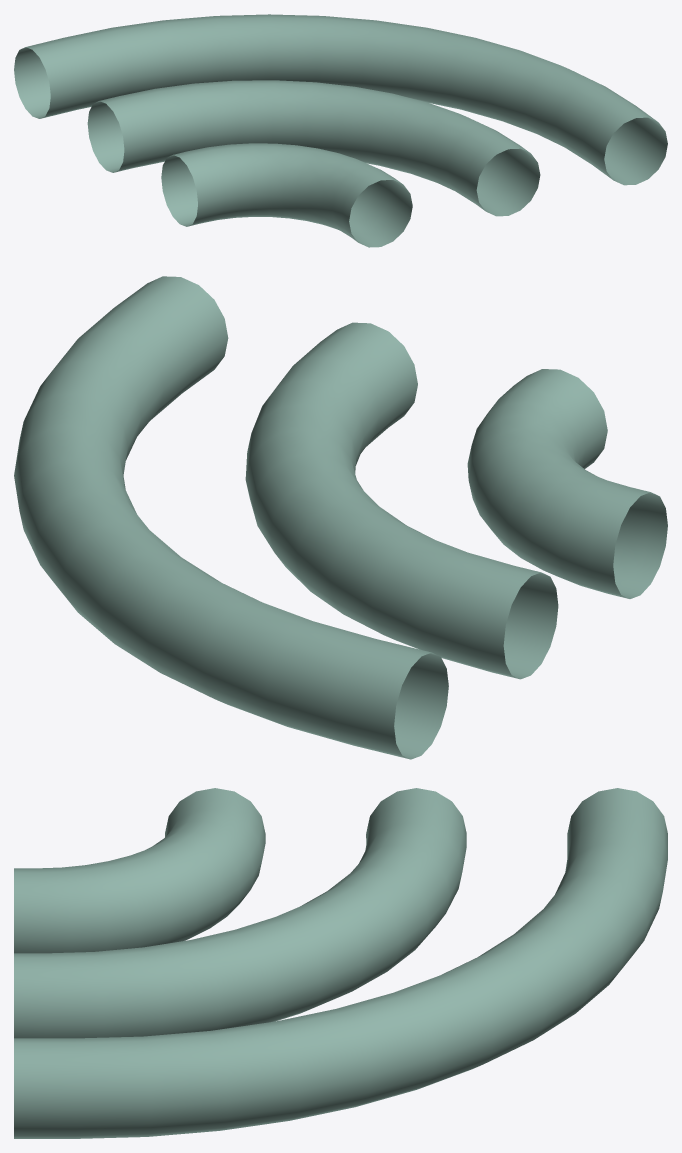
The model's file is PipeComplexLarge_A2_05.fbx.
3 renders of one model, top to bottom at view 1: azimuth 30°, elevation 25°; view 2: azimuth 150°, elevation 25°; view 3: azimuth 270°, elevation 25°, orthographic. The views are drawn at different scales.
Visible parts, largest first — view 1: PipeComplexLarge_A2_05.001; view 2: PipeComplexLarge_A2_05.001; view 3: PipeComplexLarge_A2_05.001.
Boxes of the visible parts, bbox=[...] form: PipeComplexLarge_A2_05.001: bbox=[14, 14, 667, 247]; PipeComplexLarge_A2_05.001: bbox=[14, 276, 667, 759]; PipeComplexLarge_A2_05.001: bbox=[14, 788, 667, 1138].
Size of the model in its own units: 1.3 by 0.2 by 1.3.
